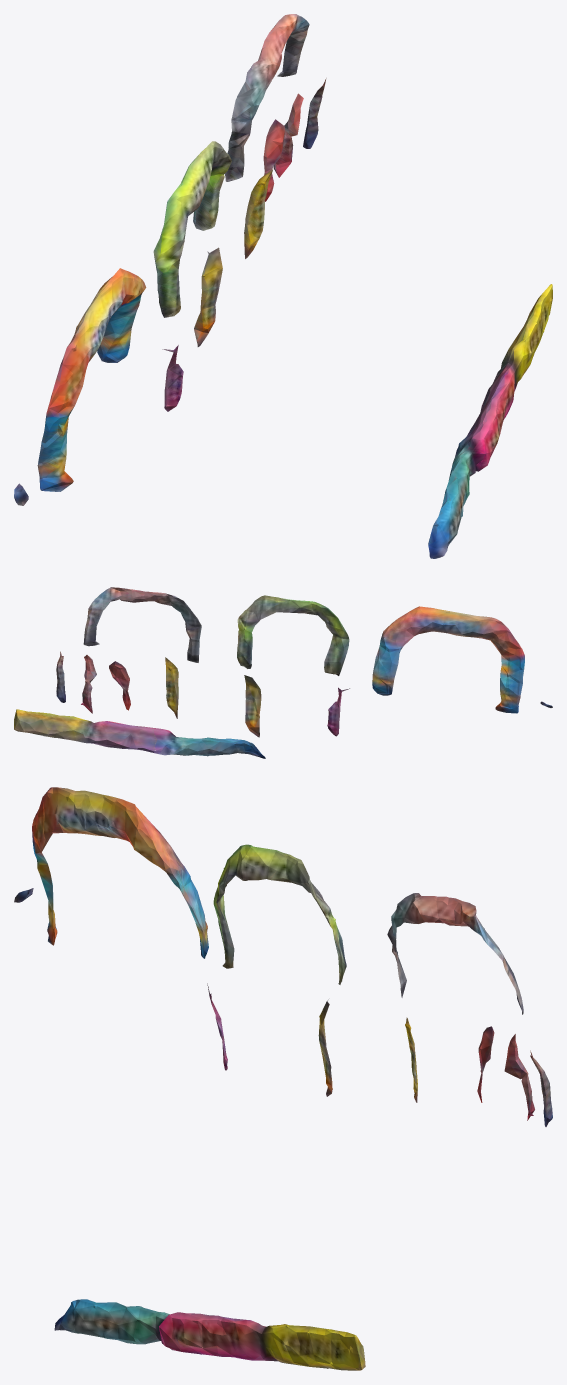
File: festival_props.glb
3 views of the same model, one above another, from view 1: azimuth 30°, elevation 25°; view 2: azimuth 150°, elevation 25°; view 3: azimuth 270°, elevation 25° (orthographic). The views are drawn at different scales.
Parts seen in each view (by area): view 1: geometry_0; view 2: geometry_0; view 3: geometry_0.
Part boxes in pixels (x1=…): geometry_0: x1=14, y1=14, x2=552, y2=558; geometry_0: x1=14, y1=587, x2=552, y2=758; geometry_0: x1=14, y1=787, x2=552, y2=1370.
Bounding box in the file's own units: 0.9007 × 0.4943 × 0.5467.
1 material, 1 textured.
